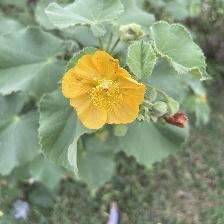indian mallow: (62, 51, 147, 133)
